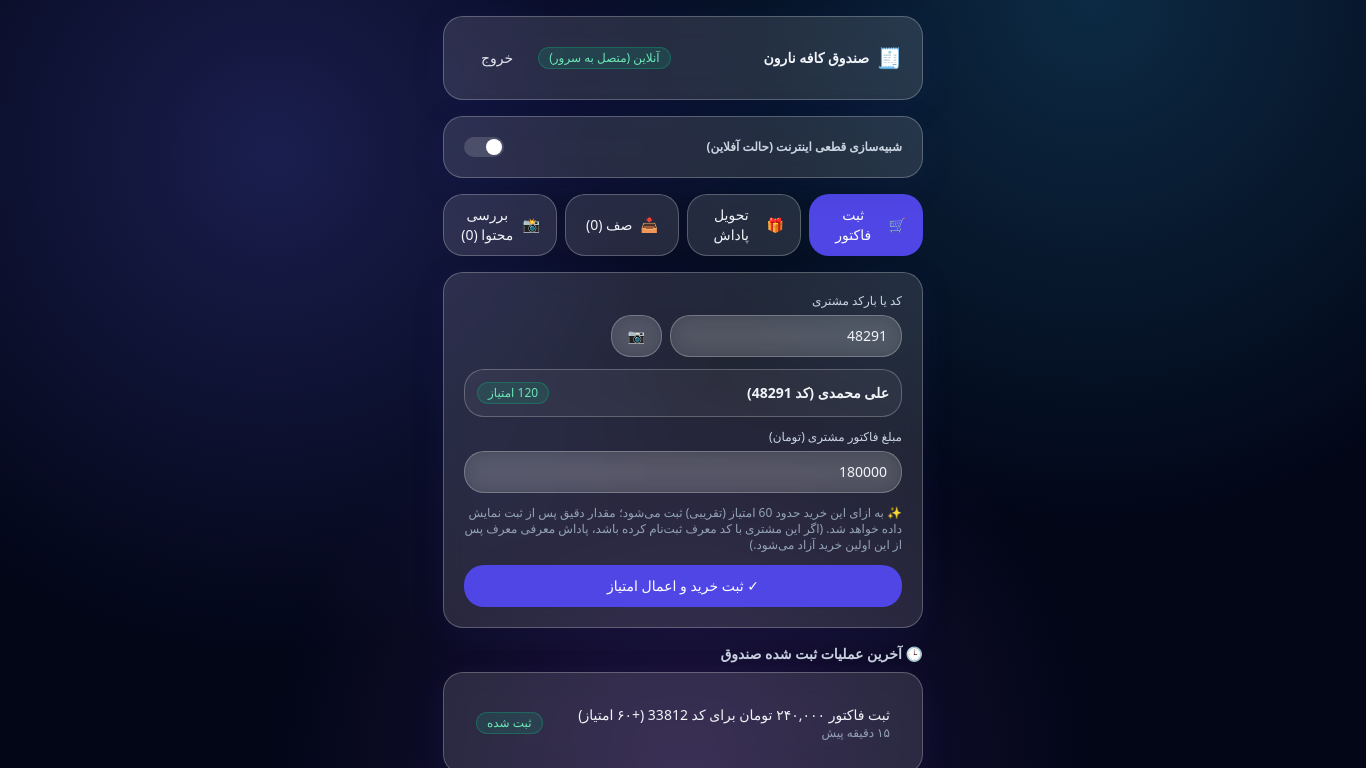
Test: StaffPosHome › handles offline queue accumulation and sync
Note: Toggle offline mode simulation
Click the checkbox: (484, 147) [464, 137, 504, 157]
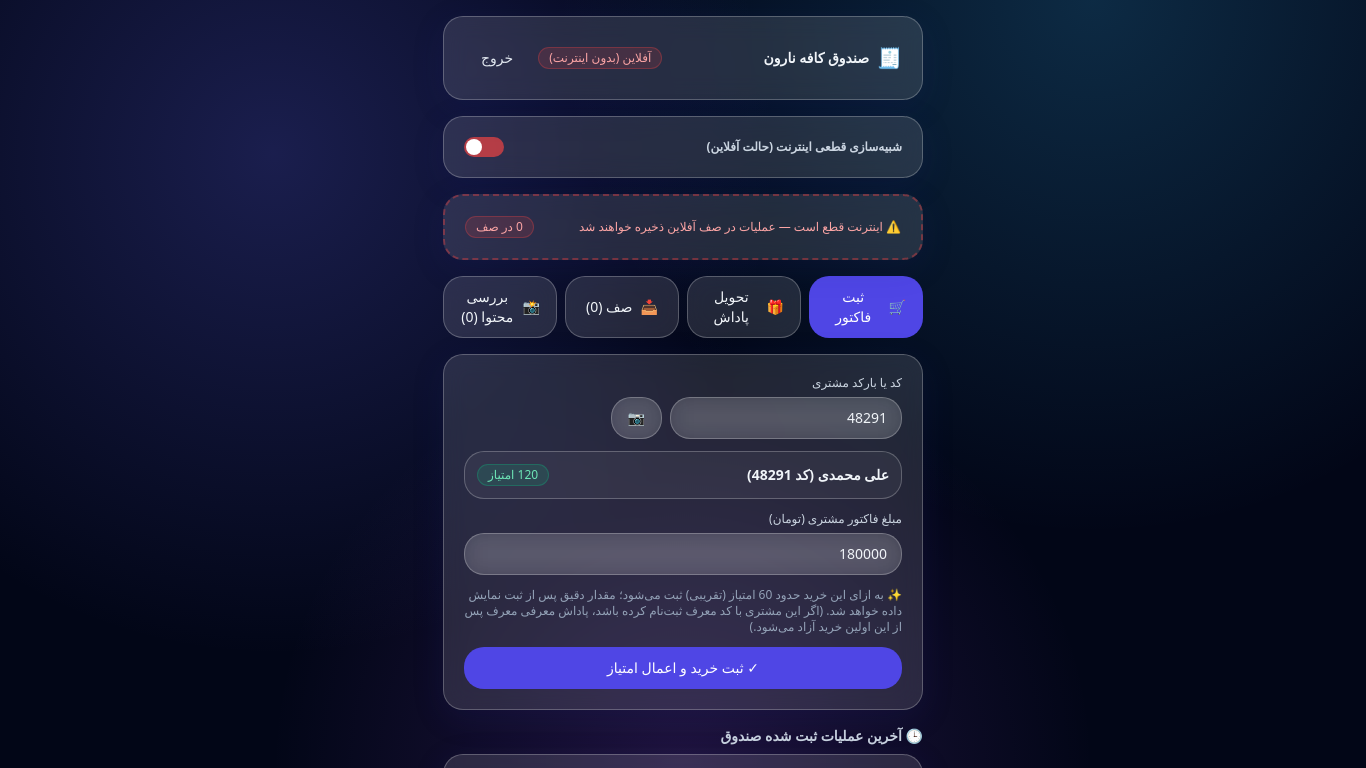
Now the text "آفلاین (بدون اینترنت)" is shown, box [538, 47, 662, 69]
Note: Submit purchase while offline
Click the button "✓ ثبت خرید و اعمال امتیاز": (683, 668) [464, 647, 902, 689]
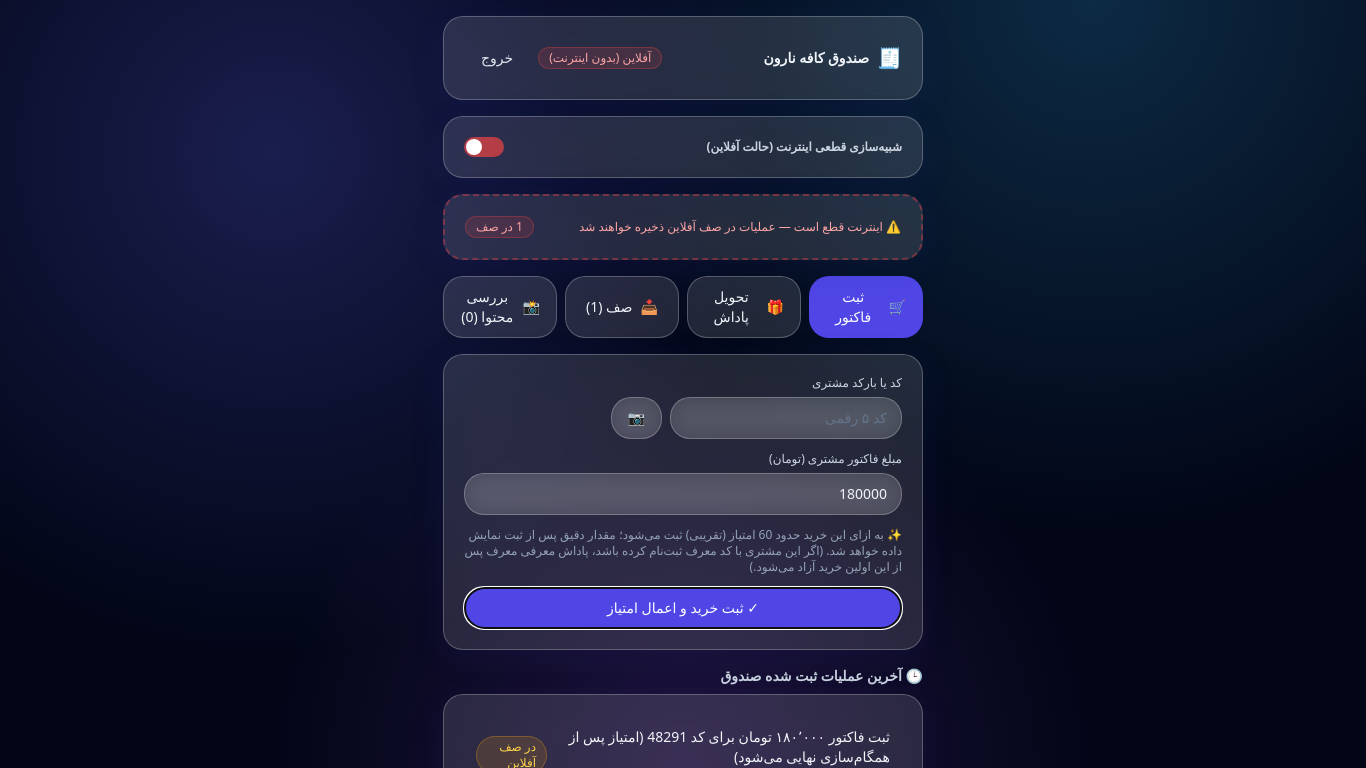
Note: Switch to queue tab
Click the button "📥 صف (1)": (622, 307) [565, 276, 679, 338]
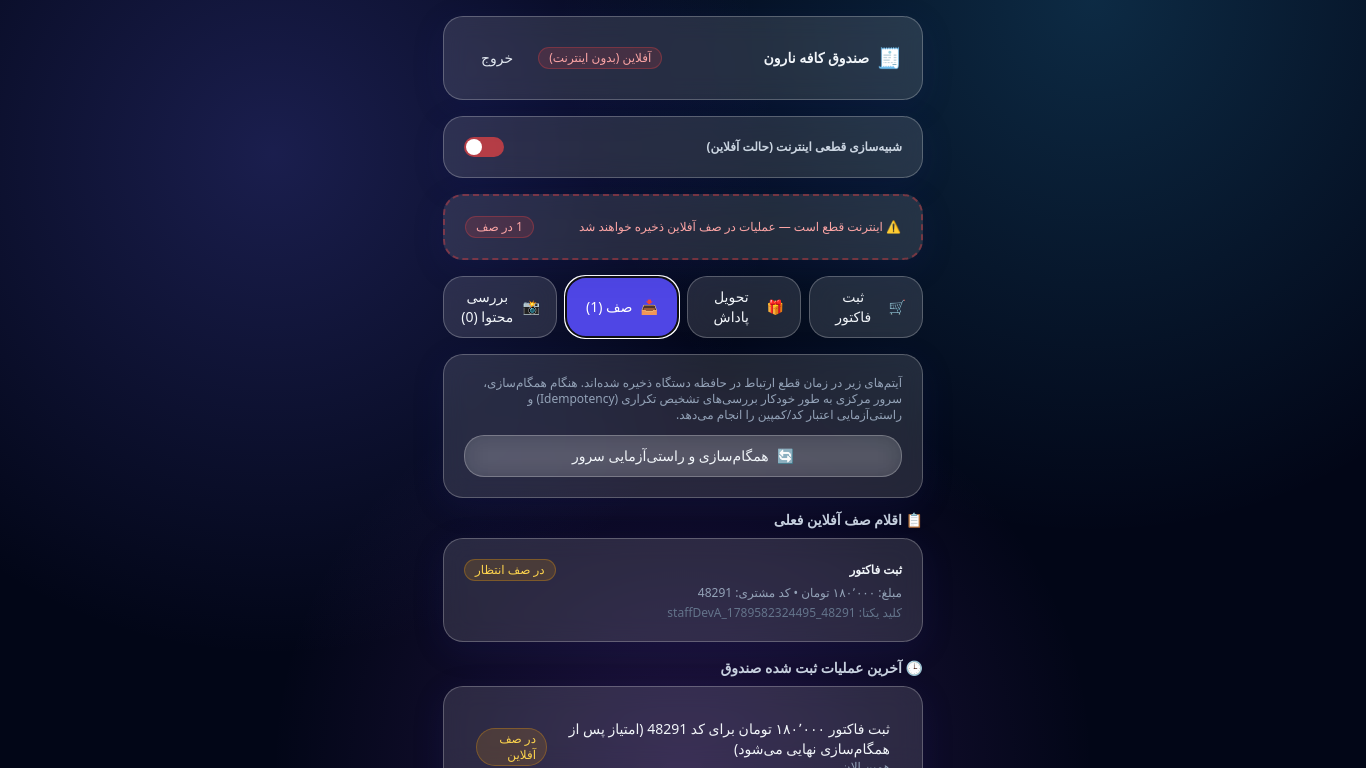
Now the text "مبلغ: ۱۸۰٬۰۰۰ تومان • کد مشتری: 48291" is shown, box [698, 584, 902, 601]
Click the button "🔄 همگام‌سازی و راستی‌آزمایی سرور": (683, 456) [464, 435, 902, 477]
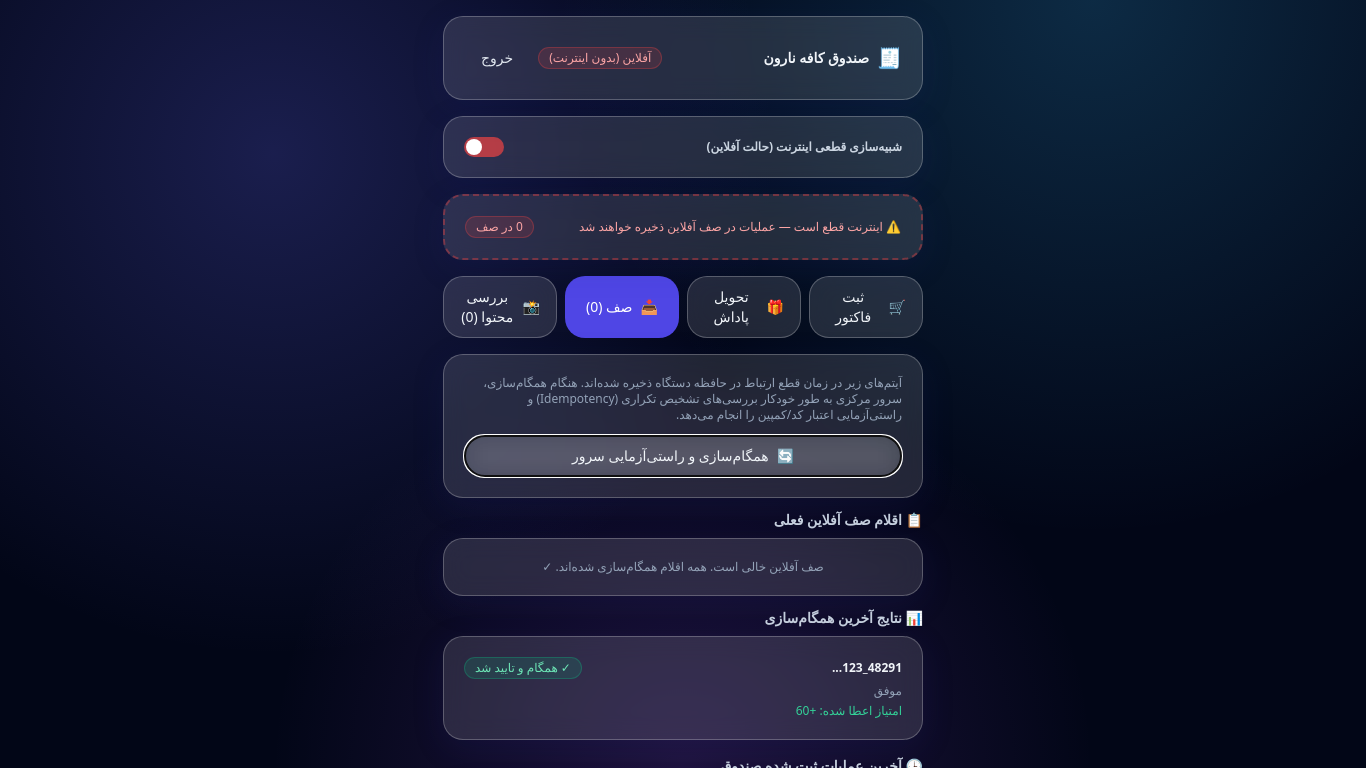
Now the heading "📊 نتایج آخرین همگام‌سازی" is shown, box [765, 608, 923, 627]
Now the text "امتیاز اعطا شده: +60" is shown, box [796, 702, 902, 719]
